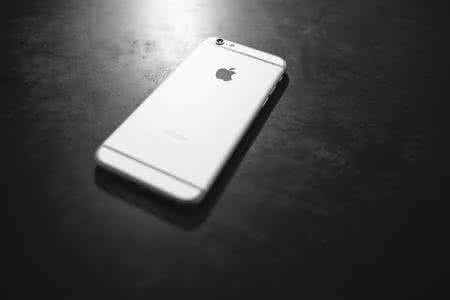phone: (103, 45, 286, 180)
